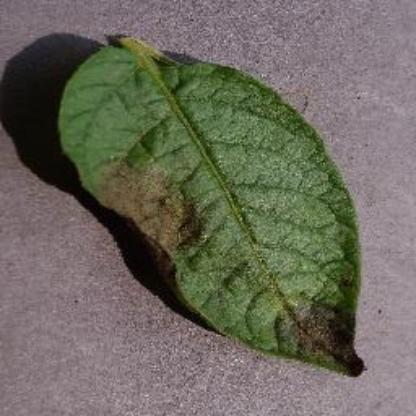Late-Blight: (57, 27, 375, 378)
